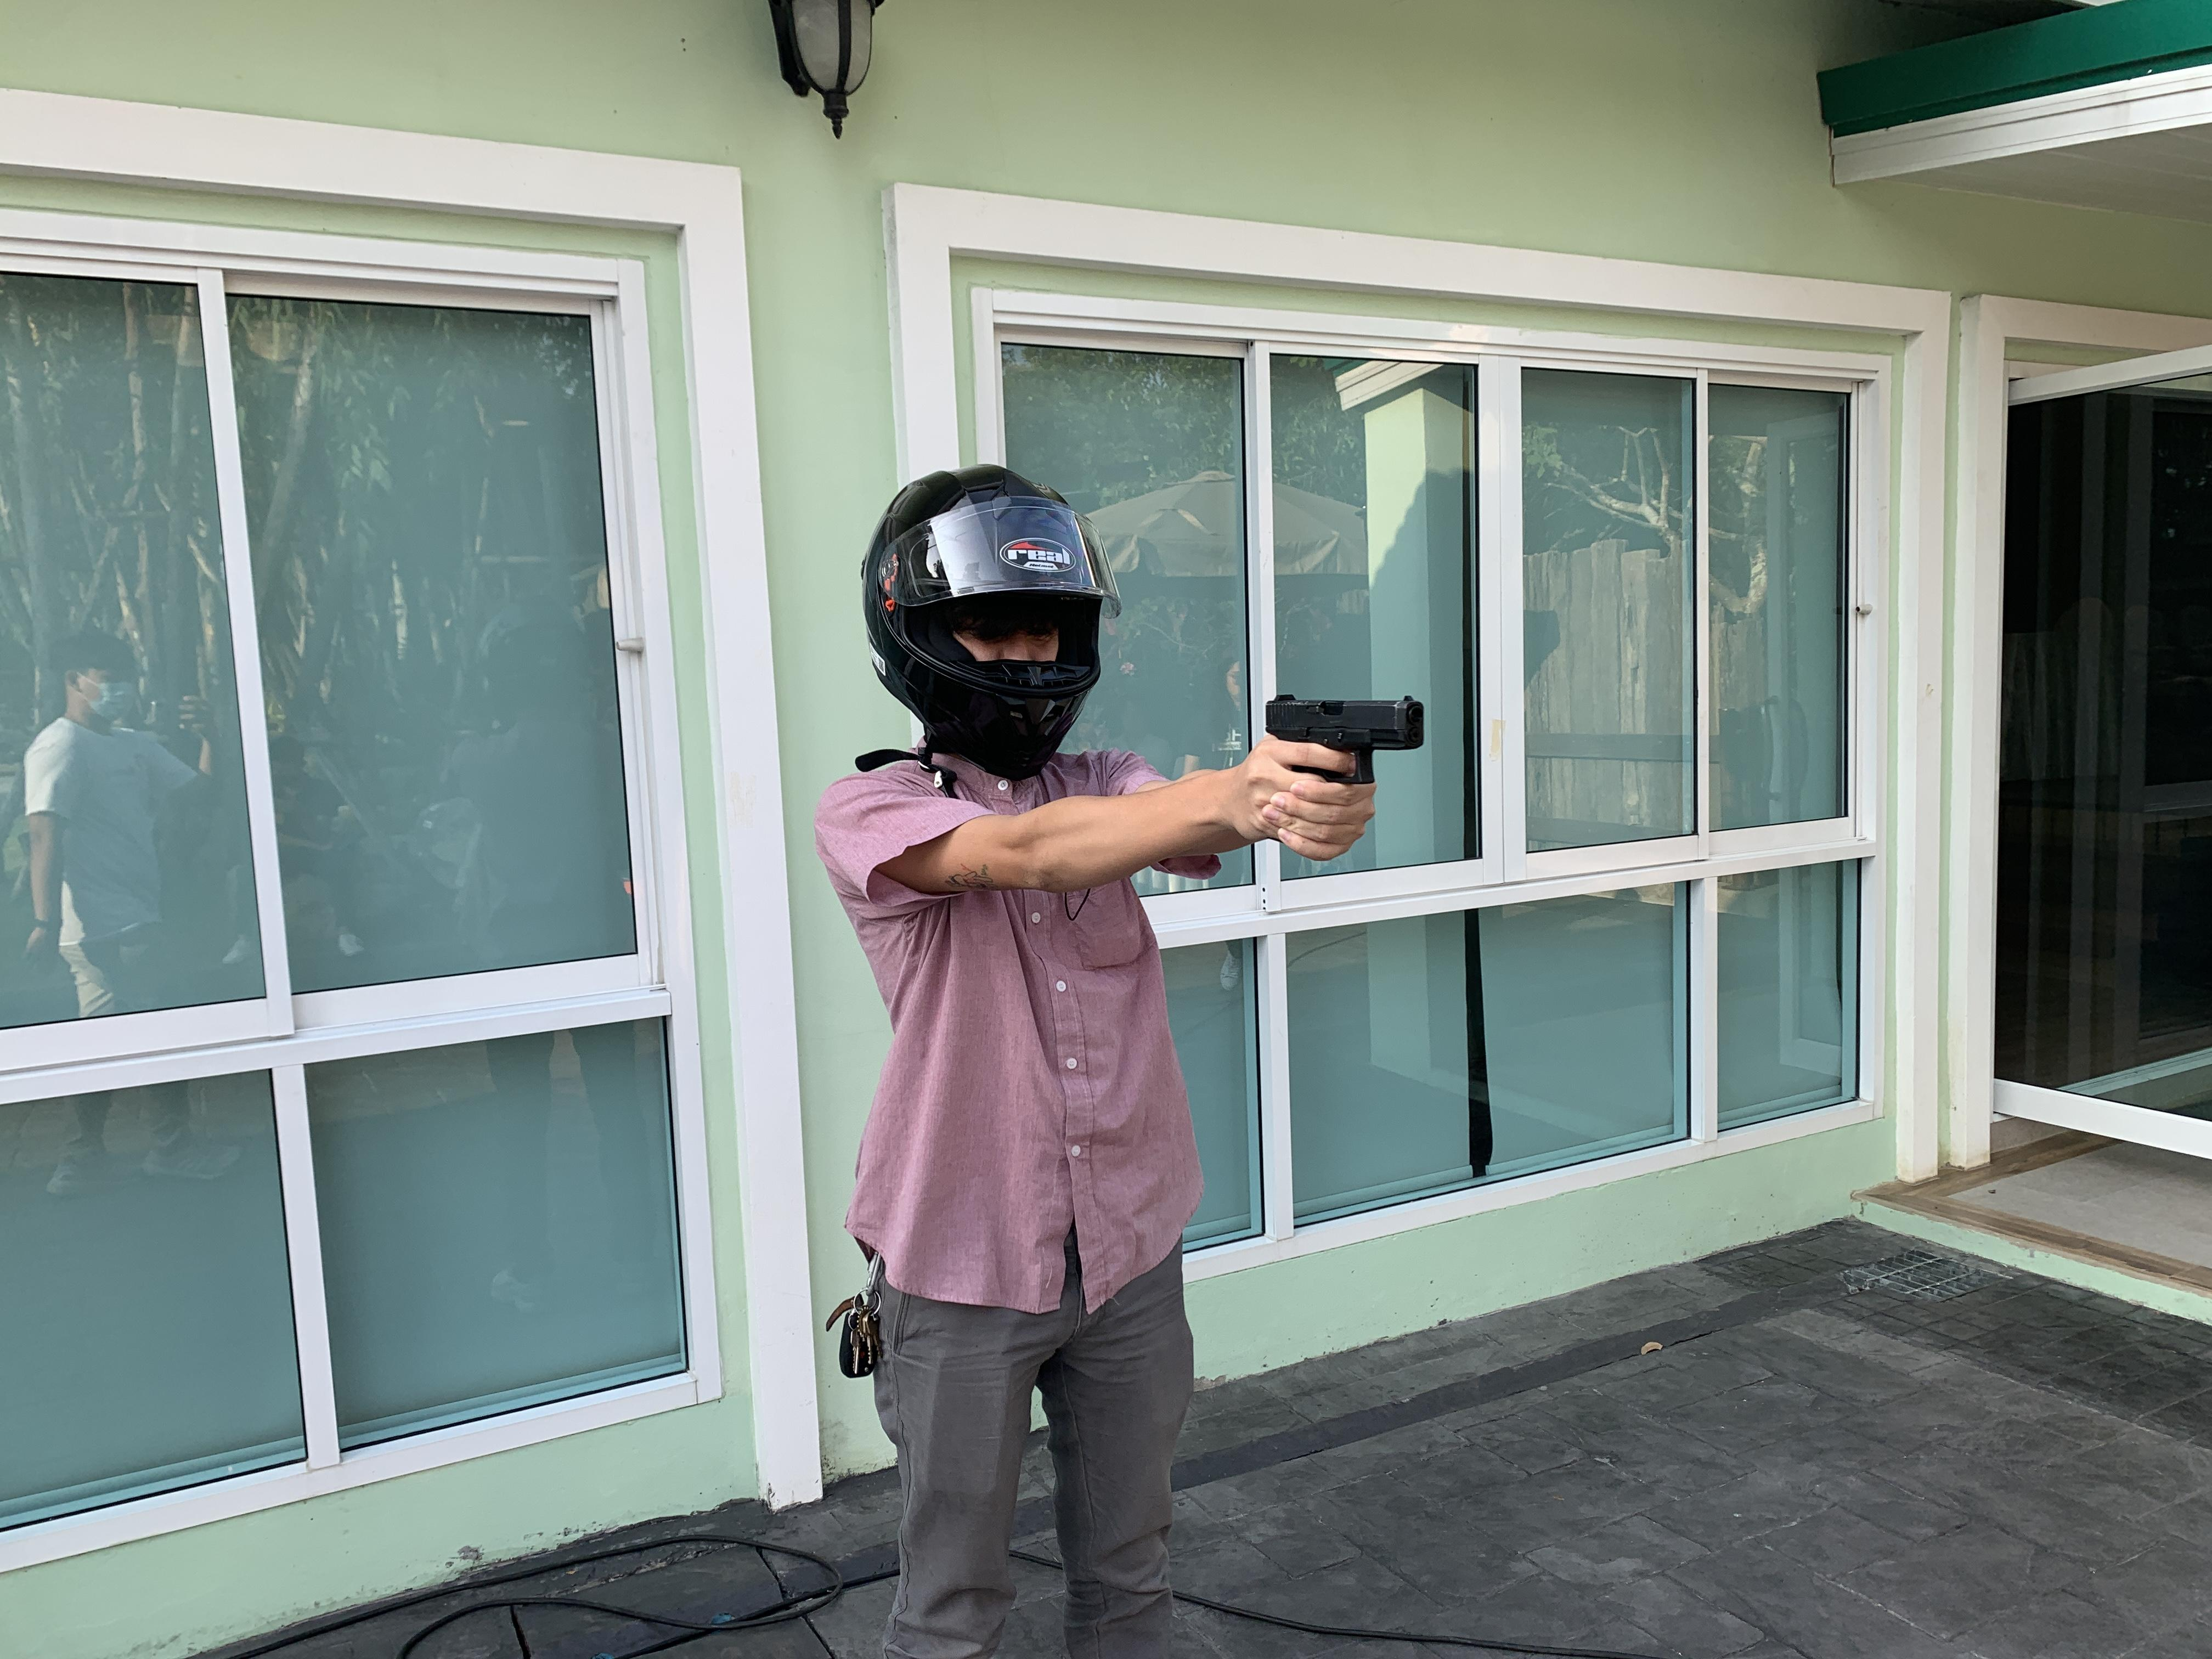criminal: (813, 462, 1435, 1659)
weapon: (1256, 688, 1432, 798)
